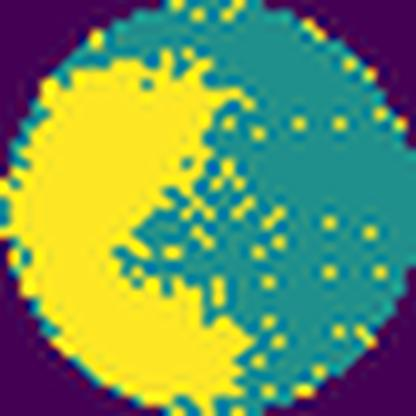Edge-Loc: (0, 48, 261, 416)
